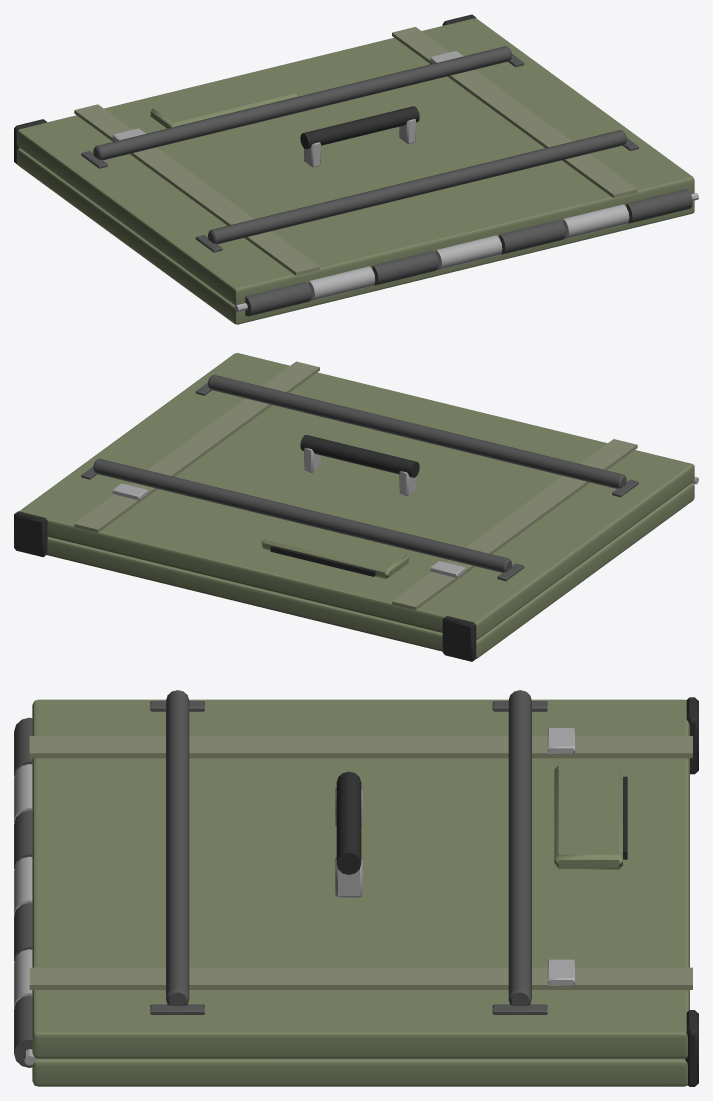
Rendered from deployable_cover.glb.
3 views of the same model, one above another, from view 1: azimuth 30°, elevation 25°; view 2: azimuth 150°, elevation 25°; view 3: azimuth 270°, elevation 25° (orthographic). The views are drawn at different scales.
Parts seen in each view (by area): view 1: body; view 2: body; view 3: body.
Part boxes in pixels (x1=…): body: x1=14, y1=14, x2=698, y2=324; body: x1=14, y1=353, x2=698, y2=661; body: x1=14, y1=690, x2=698, y2=1086.
Size of the model in its own units: 0.58 by 0.0875 by 0.5.
